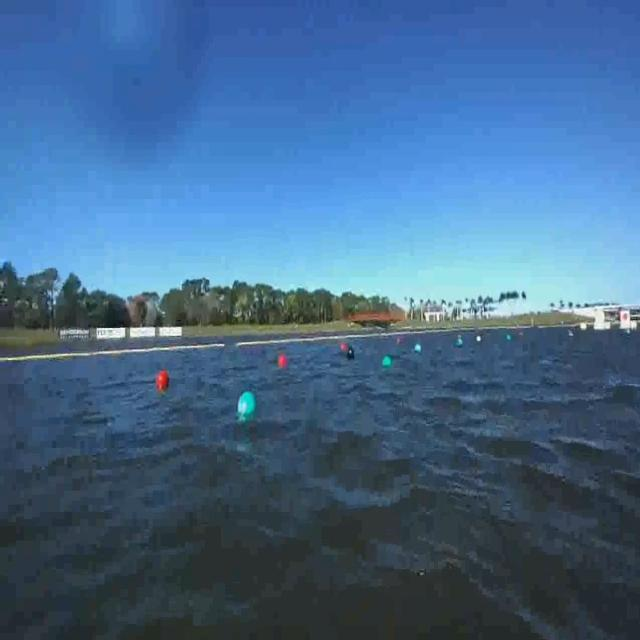black-buoy: (347, 346, 356, 361)
green-buoy: (234, 392, 256, 424), (383, 355, 392, 367), (415, 344, 422, 354)
red-buoy: (156, 369, 170, 392), (278, 354, 288, 368), (342, 344, 349, 354)
